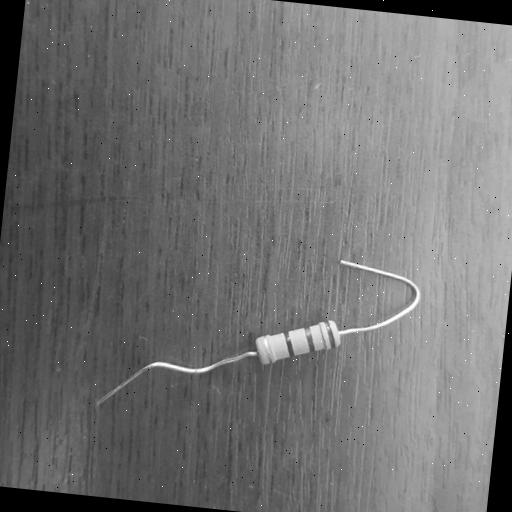RESISTOR: (198, 274, 390, 424)
